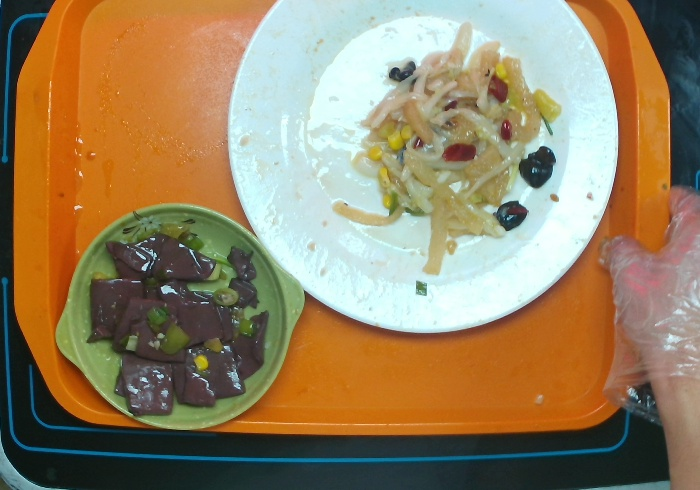NLDX-Da_Yuan_Pan: (226, 1, 620, 336)
NLDX-Lv_Hua_Shuang_Er_Die: (53, 200, 307, 431)
